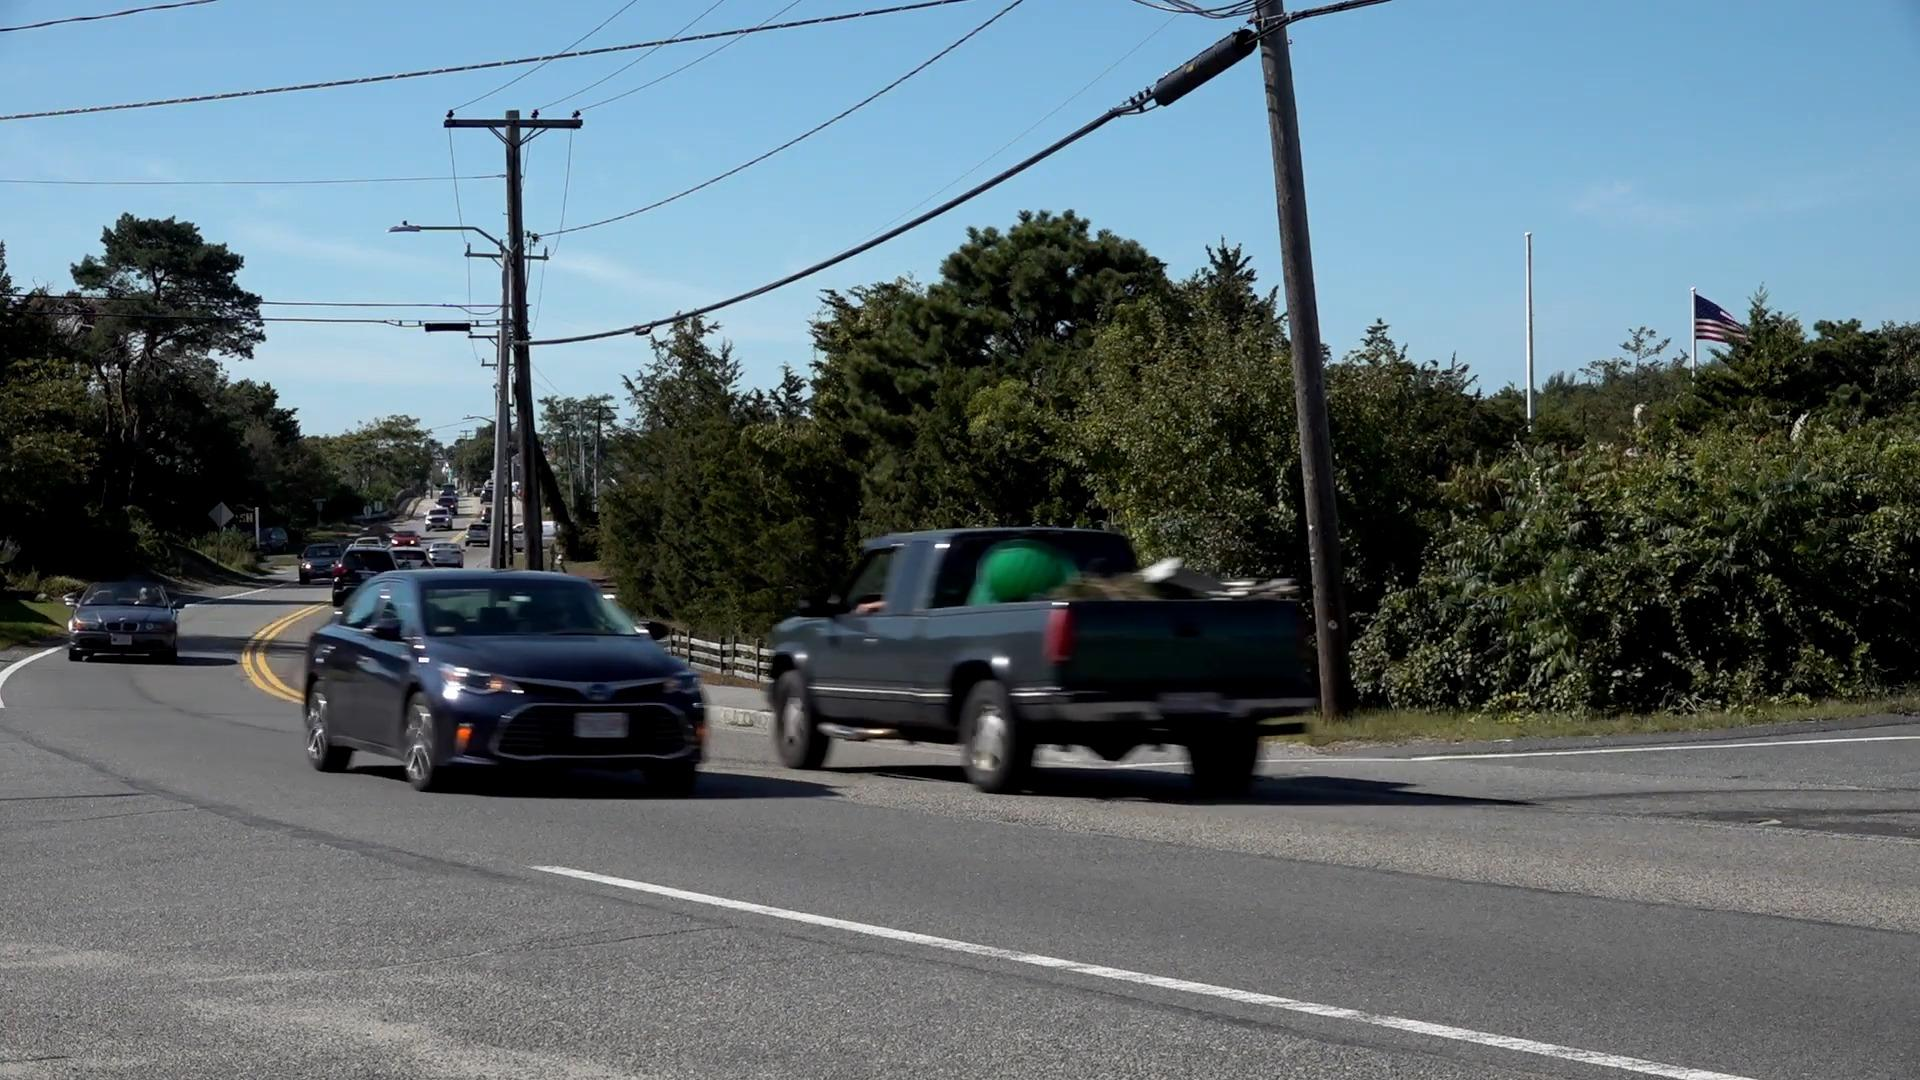pickup: (765, 525, 1304, 787)
sedans: (299, 567, 711, 794), (71, 582, 182, 659)
